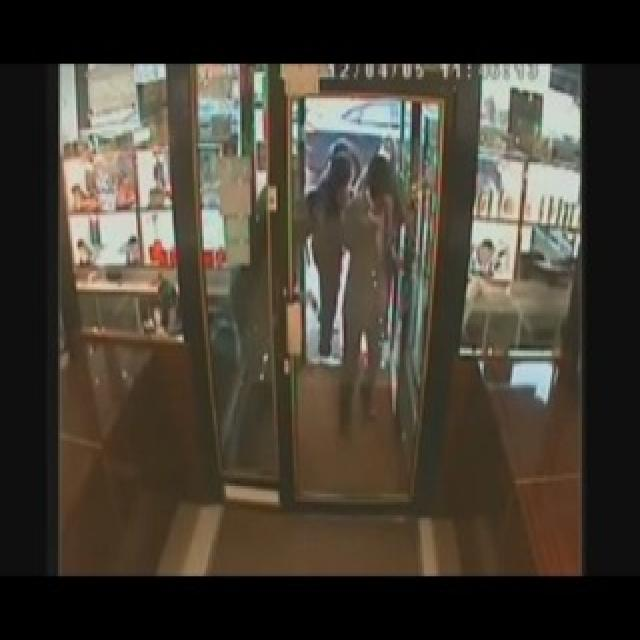thief: (308, 138, 407, 402)
